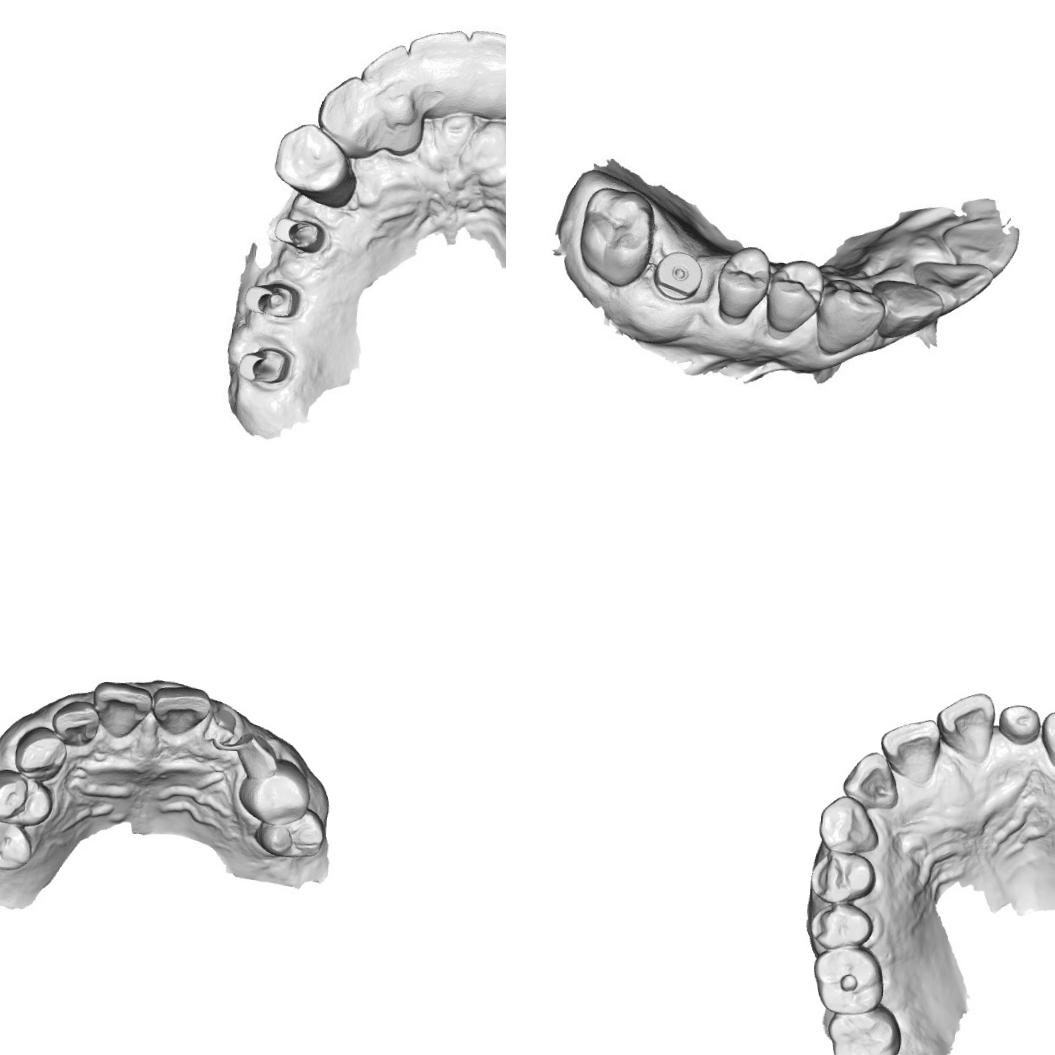abutment: (269, 207, 330, 256), (243, 274, 299, 321), (238, 337, 291, 386)
canine: (310, 70, 380, 152), (817, 282, 882, 359), (817, 792, 881, 856), (12, 722, 70, 782), (1039, 704, 1055, 770)
implant: (652, 250, 702, 303)
incisor: (399, 19, 474, 83), (934, 689, 996, 761), (876, 276, 941, 343), (949, 214, 1021, 274), (877, 714, 942, 780), (90, 680, 154, 742), (919, 259, 994, 311), (359, 41, 414, 111), (840, 750, 899, 810), (150, 682, 213, 738), (49, 698, 101, 748), (464, 24, 506, 84), (996, 700, 1042, 746)
molar: (576, 184, 659, 280), (810, 944, 886, 1016), (824, 1001, 904, 1055)
premolar: (272, 119, 360, 204), (237, 754, 312, 829), (252, 803, 327, 862), (766, 260, 820, 335), (808, 848, 877, 905), (720, 247, 768, 321), (0, 766, 55, 827), (810, 900, 876, 950), (0, 811, 36, 873)
